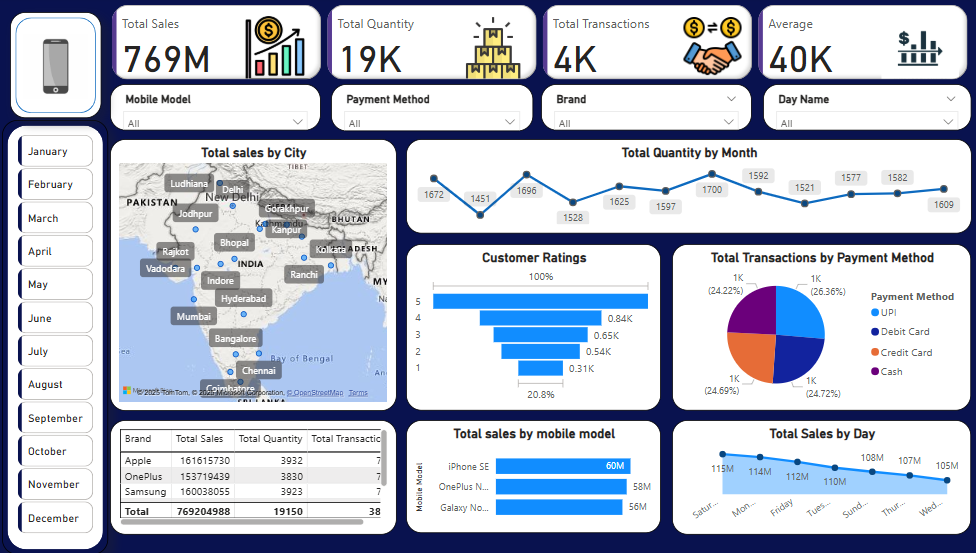

Layout of this report page (visuals, bound fields, positions):
{"tool":"powerbi","page":{"name":"Page 1","canvas":[1280,720],"ordinal":0},"visuals":[{"type":"shape","box":[12.8,158.7,137.5,561.3],"z":0},{"type":"advancedSlicerVisual","fields":{"Values":["Sales_Data.Date.Variation.Date Hierarchy.Month"]},"box":[28.3,172.9,107.7,531.5],"z":1000},{"type":"cardVisual","fields":{"Data":["Sales_Data.Total Sales","Sales_Data.Total Quantity","Sales_Data.Total Transactions","Sales_Data.Average"]},"box":[150.2,9.9,1114,102],"z":2000},{"type":"lineChart","title":"Total Quantity by Month","fields":{"Y":["Sum(Sales_Data.Units Sold)"],"Category":["Sales_Data.Date.Variation.Date Hierarchy.Month","Sales_Data.Date.Variation.Date Hierarchy.Day"]},"box":[534.3,182.8,729.9,121.9],"z":3000},{"type":"clusteredBarChart","title":"Total sales by mobile model","fields":{"Category":["Sales_Data.Mobile Model"],"Y":["Sales_Data.Total Sales"]},"box":[534.2,545.9,329.2,146.1],"z":4000},{"type":"pieChart","fields":{"Category":["Sales_Data.Payment Method"],"Y":["Sales_Data.Total Transactions"]},"box":[876.9,319.2,386.4,215],"z":5000},{"type":"funnel","title":" Customer Ratings ","fields":{"Category":["Sales_Data.Customer Ratings"],"Y":["CountNonNull(Sales_Data.Customer Ratings)"]},"box":[534.2,319.2,329.2,215],"z":6000},{"type":"areaChart","title":"Total Sales by Day","fields":{"Category":["Sales_Data.Day Name"],"Y":["Sales_Data.Total Sales"]},"box":[876.9,545.9,386.4,147.8],"z":7000},{"type":"map","title":"Total sales by City","fields":{"Category":["Sales_Data.City"]},"box":[152.9,183.1,369.6,351.1],"z":8000},{"type":"tableEx","fields":{"Values":["Sales_Data.Brand","Sales_Data.Total Sales","Sales_Data.Total Quantity","Sales_Data.Total Transactions"]},"box":[152.9,545.9,369.6,147.8],"z":9000},{"type":"actionButton","box":[0,0,12.9,40],"z":10000},{"type":"slicer","fields":{"Values":["Sales_Data.Mobile Model"]},"box":[152.9,112.5,272.1,60.5],"z":11000},{"type":"slicer","fields":{"Values":["Sales_Data.Payment Method"]},"box":[438,112,260.8,60.9],"z":12000},{"type":"slicer","fields":{"Values":["Sales_Data.Brand"]},"box":[708.9,112.5,272.1,60.5],"z":13000},{"type":"shape","box":[22.7,19.8,117.6,137.5],"z":14000},{"type":"slicer","fields":{"Values":["Sales_Data.Day Name"]},"box":[994.4,112.5,268.8,60.5],"z":15000},{"type":"image","box":[32.6,42.5,99.2,93.5],"z":16000}]}

Visuals, with their boxes in screenshot pixels (x1, y1, x2, y2), scaled from the page's 1280x720 canvas onto the 976x553 screenshot:
shape: pyautogui.locateOnScreen(10, 122, 115, 552)
advancedSlicerVisual - Sales_Data.Date.Variation.Date Hierarchy.Month: pyautogui.locateOnScreen(22, 133, 104, 541)
cardVisual - Sales_Data.Total Sales x Sales_Data.Total Quantity: pyautogui.locateOnScreen(115, 8, 964, 86)
"Total Quantity by Month" lineChart: pyautogui.locateOnScreen(407, 140, 964, 234)
"Total sales by mobile model" clusteredBarChart: pyautogui.locateOnScreen(407, 419, 658, 531)
pieChart - Sales_Data.Payment Method x Sales_Data.Total Transactions: pyautogui.locateOnScreen(669, 245, 963, 410)
" Customer Ratings " funnel: pyautogui.locateOnScreen(407, 245, 658, 410)
"Total Sales by Day" areaChart: pyautogui.locateOnScreen(669, 419, 963, 533)
"Total sales by City" map: pyautogui.locateOnScreen(117, 141, 398, 410)
tableEx - Sales_Data.Brand x Sales_Data.Total Sales: pyautogui.locateOnScreen(117, 419, 398, 533)
actionButton: pyautogui.locateOnScreen(0, 0, 10, 31)
slicer - Sales_Data.Mobile Model: pyautogui.locateOnScreen(117, 86, 324, 133)
slicer - Sales_Data.Payment Method: pyautogui.locateOnScreen(334, 86, 533, 133)
slicer - Sales_Data.Brand: pyautogui.locateOnScreen(541, 86, 748, 133)
shape: pyautogui.locateOnScreen(17, 15, 107, 121)
slicer - Sales_Data.Day Name: pyautogui.locateOnScreen(758, 86, 963, 133)
image: pyautogui.locateOnScreen(25, 33, 100, 104)
